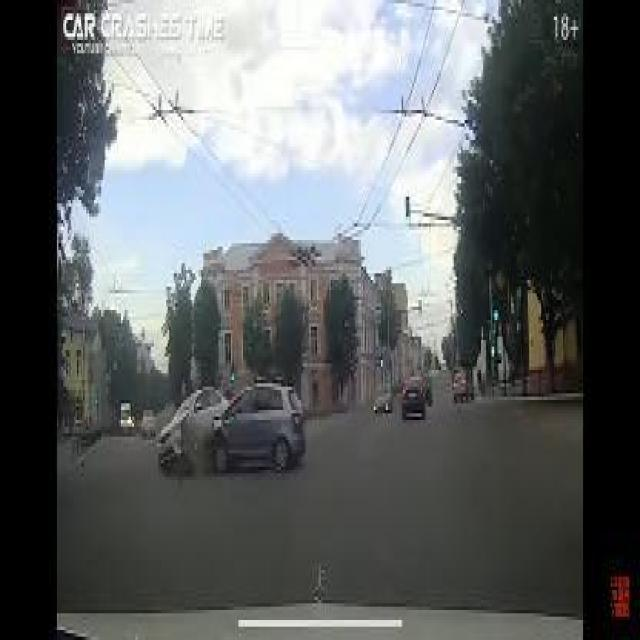accident: (154, 373, 312, 470)
